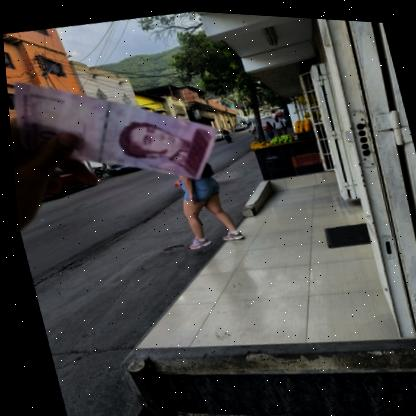one_hundred-front-vef: (3, 45, 229, 209)
